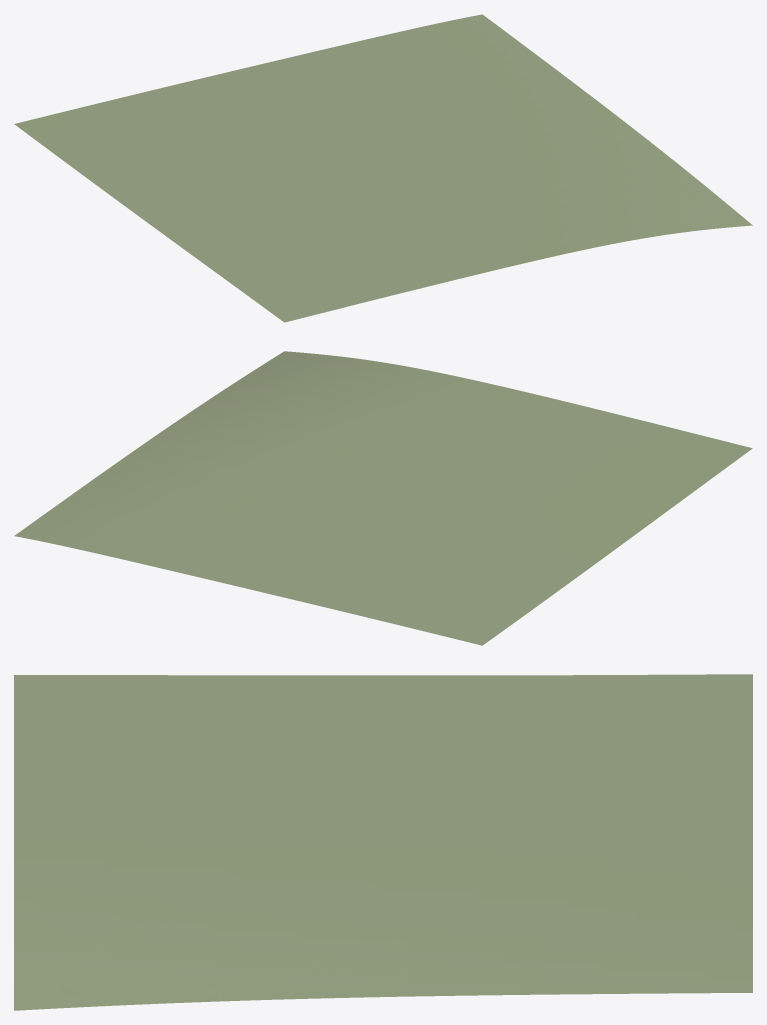
Rendered from desert-12-9.glb.
3 views of the same model, one above another, from view 1: azimuth 30°, elevation 25°; view 2: azimuth 150°, elevation 25°; view 3: azimuth 270°, elevation 25° (orthographic). The views are drawn at different scales.
Visible parts, largest first — view 1: desert-12-9; view 2: desert-12-9; view 3: desert-12-9.
Boxes of the visible parts, box(x1,y1,x2,y2) form: desert-12-9: box(14, 14, 752, 322); desert-12-9: box(14, 351, 752, 645); desert-12-9: box(14, 674, 752, 1010).
Bounding box in the file's own units: 512 × 19.06 × 512.
